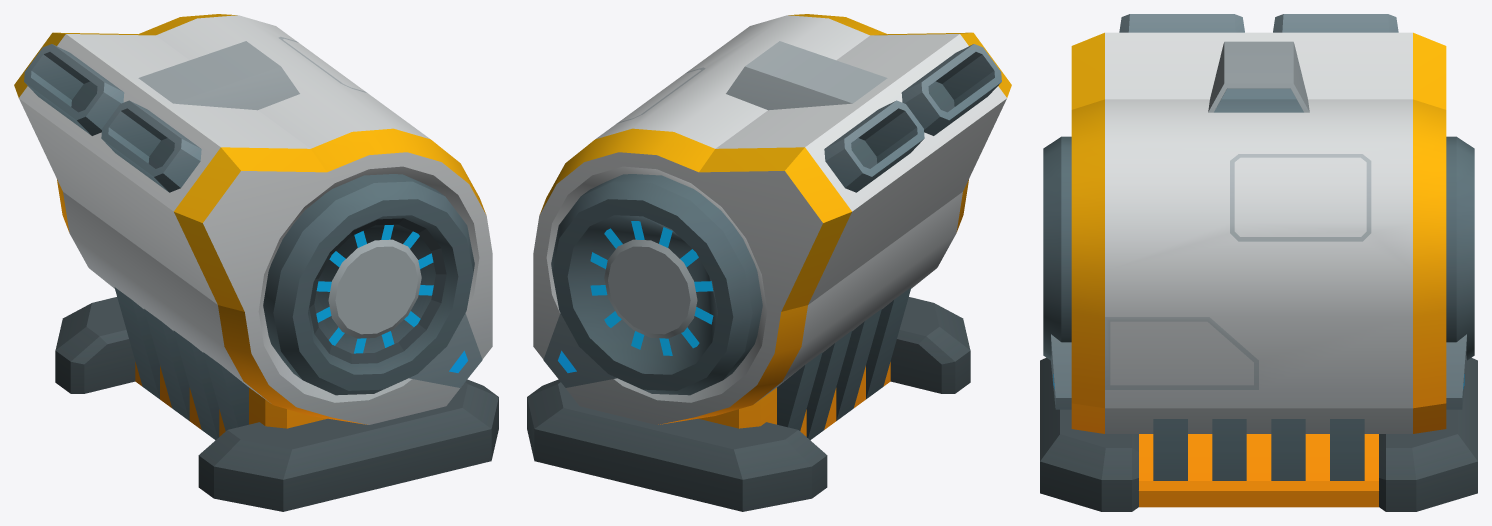
Rendered from Generator_008.glb.
The picture shows the model from 3 angles, left to right: view 1: azimuth 30°, elevation 25°; view 2: azimuth 150°, elevation 25°; view 3: azimuth 270°, elevation 25°; orthographic projection.
Parts seen in each view (by area): view 1: Generator_008, Generator_rotor_005; view 2: Generator_008, Generator_rotor_005; view 3: Generator_008.
Boxes of the visible parts, box(x1,y1,x2,y2) form: Generator_008: box(14, 14, 498, 511); Generator_rotor_005: box(316, 225, 433, 353); Generator_008: box(527, 14, 1011, 511); Generator_rotor_005: box(590, 221, 713, 355); Generator_008: box(1040, 14, 1477, 511).
Size of the model in its own units: 1.76 by 1.8 by 2.03.
Materials: 2 (2 with a texture image).
